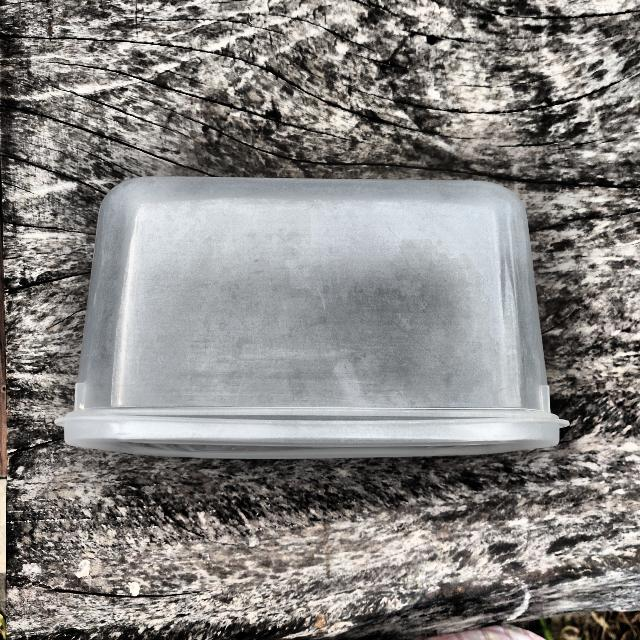plastic container: (38, 153, 574, 481)
